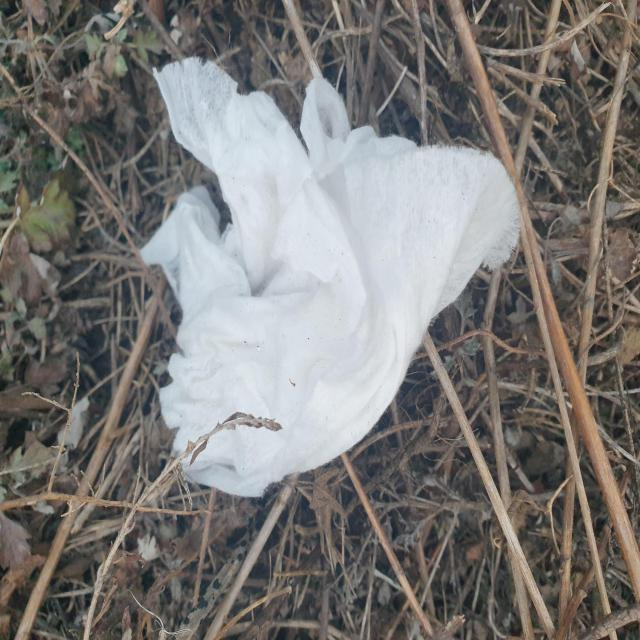giay: (140, 57, 520, 497)
